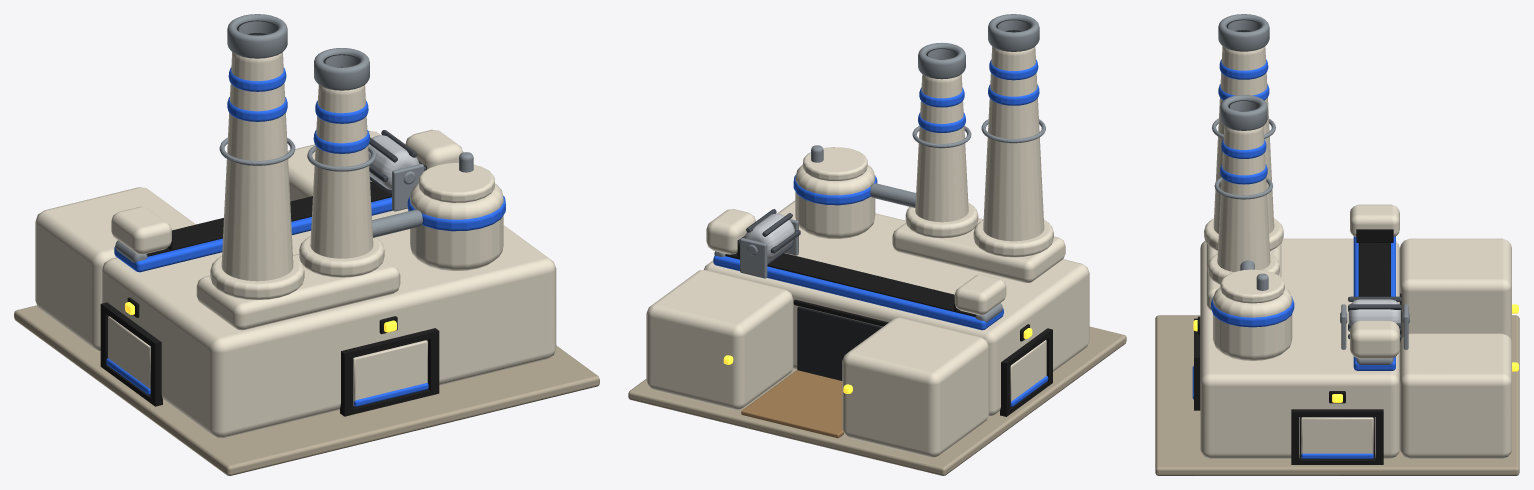
File: mining_refinery.glb
3 views of the same model, side by side, from view 1: azimuth 30°, elevation 25°; view 2: azimuth 150°, elevation 25°; view 3: azimuth 270°, elevation 25° (orthographic). The views are drawn at different scales.
Visible parts, largest first — view 1: stage_1__M_CreamPlastic, stage_2__M_CreamPlastic, stage_0__M_SugarPad, stage_1__M_Licorice, stage_3__M_SpringSteel, hatch_2__M_CreamPlastic, stage_2__M_SpringSteel, stage_3__M_Team, stage_1__M_Team, stage_2__M_Licorice, hatch_1__M_CreamPlastic, spinner__M_Foil (+2 smaller); view 2: stage_1__M_CreamPlastic, stage_2__M_CreamPlastic, stage_0__M_SugarPad, stage_0__M_Kraft, door__M_Dark, stage_3__M_SpringSteel, stage_2__M_Licorice, stage_1__M_Team, stage_2__M_SpringSteel, stage_1__M_Licorice, stage_3__M_Team, hatch_1__M_CreamPlastic (+3 smaller); view 3: stage_1__M_CreamPlastic, stage_2__M_CreamPlastic, stage_0__M_SugarPad, stage_3__M_SpringSteel, stage_1__M_Licorice, hatch_0__M_CreamPlastic, stage_2__M_Licorice, stage_3__M_Team, stage_2__M_SpringSteel, stage_1__M_Team, spinner__M_Foil, stage_2__M_Team (+2 smaller).
Boxes of the visible parts, box(x1,y1,x2,y2) form: stage_1__M_CreamPlastic: box(35, 131, 556, 438); stage_2__M_CreamPlastic: box(111, 52, 503, 330); stage_0__M_SugarPad: box(14, 305, 599, 475); stage_1__M_Licorice: box(100, 297, 439, 416); stage_3__M_SpringSteel: box(219, 14, 369, 165); hatch_2__M_CreamPlastic: box(353, 340, 427, 405); stage_2__M_SpringSteel: box(115, 145, 473, 262); stage_3__M_Team: box(227, 67, 369, 153); stage_1__M_Team: box(114, 197, 392, 272); stage_2__M_Licorice: box(146, 161, 426, 256); hatch_1__M_CreamPlastic: box(108, 316, 150, 394); spinner__M_Foil: box(368, 135, 419, 189); stage_1__M_CreamPlastic: box(646, 200, 1089, 457); stage_2__M_CreamPlastic: box(706, 46, 1065, 315); stage_0__M_SugarPad: box(628, 326, 1126, 475); stage_0__M_Kraft: box(741, 370, 843, 438); door__M_Dark: box(797, 306, 882, 380); stage_3__M_SpringSteel: box(918, 14, 1045, 143); stage_2__M_Licorice: box(725, 236, 975, 316); stage_1__M_Team: box(713, 255, 1003, 330); stage_2__M_SpringSteel: box(714, 125, 1002, 322); stage_1__M_Licorice: box(793, 299, 1052, 416); stage_3__M_Team: box(918, 59, 1039, 132); hatch_1__M_CreamPlastic: box(1010, 340, 1046, 401); stage_1__M_CreamPlastic: box(1200, 238, 1511, 458); stage_2__M_CreamPlastic: box(1204, 46, 1399, 360); stage_0__M_SugarPad: box(1155, 315, 1519, 475); stage_3__M_SpringSteel: box(1212, 14, 1275, 138); stage_1__M_Licorice: box(1194, 293, 1401, 464); hatch_0__M_CreamPlastic: box(1301, 417, 1373, 453); stage_2__M_Licorice: box(1356, 229, 1393, 296); stage_3__M_Team: box(1218, 59, 1269, 184); stage_2__M_SpringSteel: box(1214, 177, 1409, 364); stage_1__M_Team: box(1353, 236, 1395, 370); spinner__M_Foil: box(1348, 299, 1400, 330); stage_2__M_Team: box(1211, 296, 1294, 327).
Bounding box in the file's own units: 2.92 × 2.95 × 2.92.
